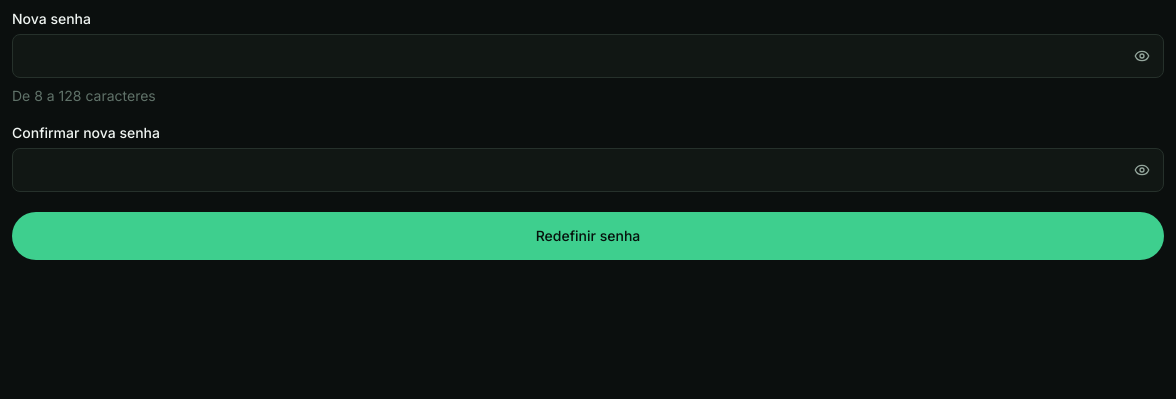
ResetForm › mostra link inválido com 'Pedir um novo' no 400
The image size is (1176, 399).
Step 1. Type "12345678" into the password field labelled "Nova senha" → (588, 56), box [12,34,1164,78]
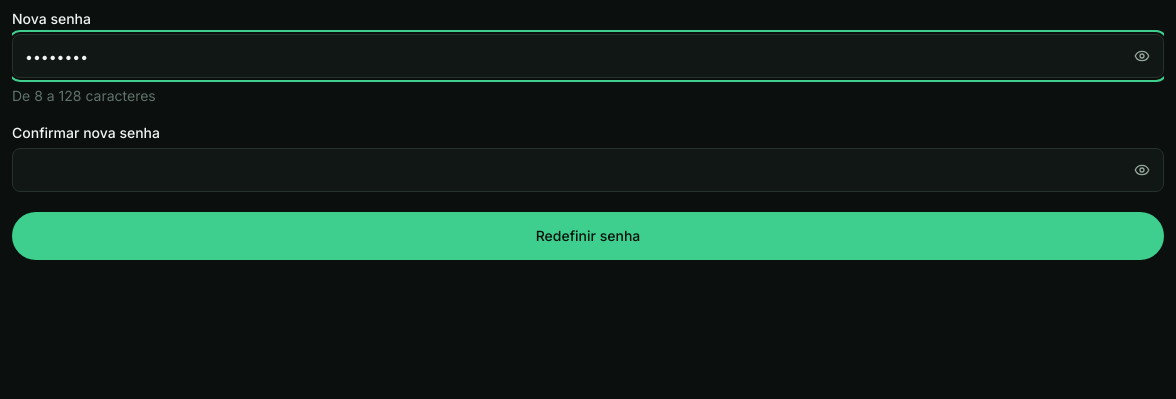
Step 2. Type "12345678" into the password field labelled "Confirmar nova senha" → (588, 170), box [12,148,1164,192]
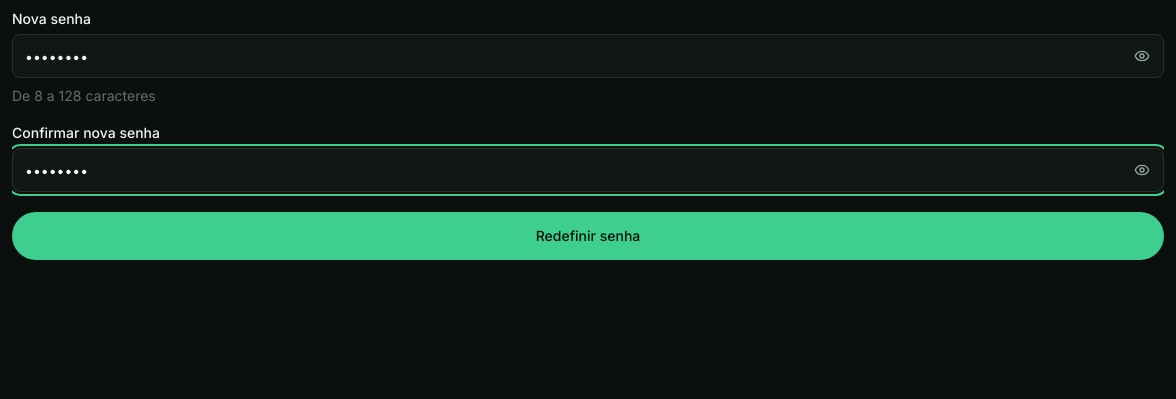
Step 3. Click the button "Redefinir senha" → (588, 236), box [12,212,1164,260]
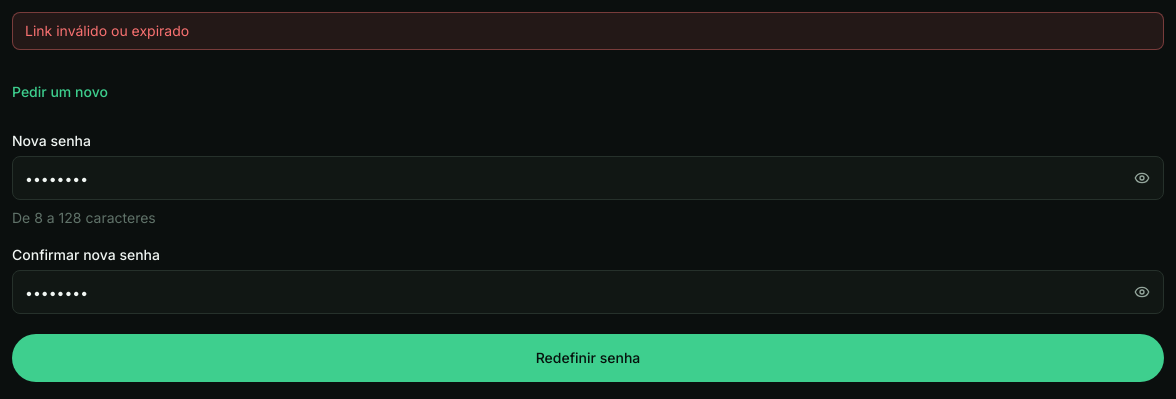
Result: the message reads "Link inválido ou expirado" at [25,22,189,39]
